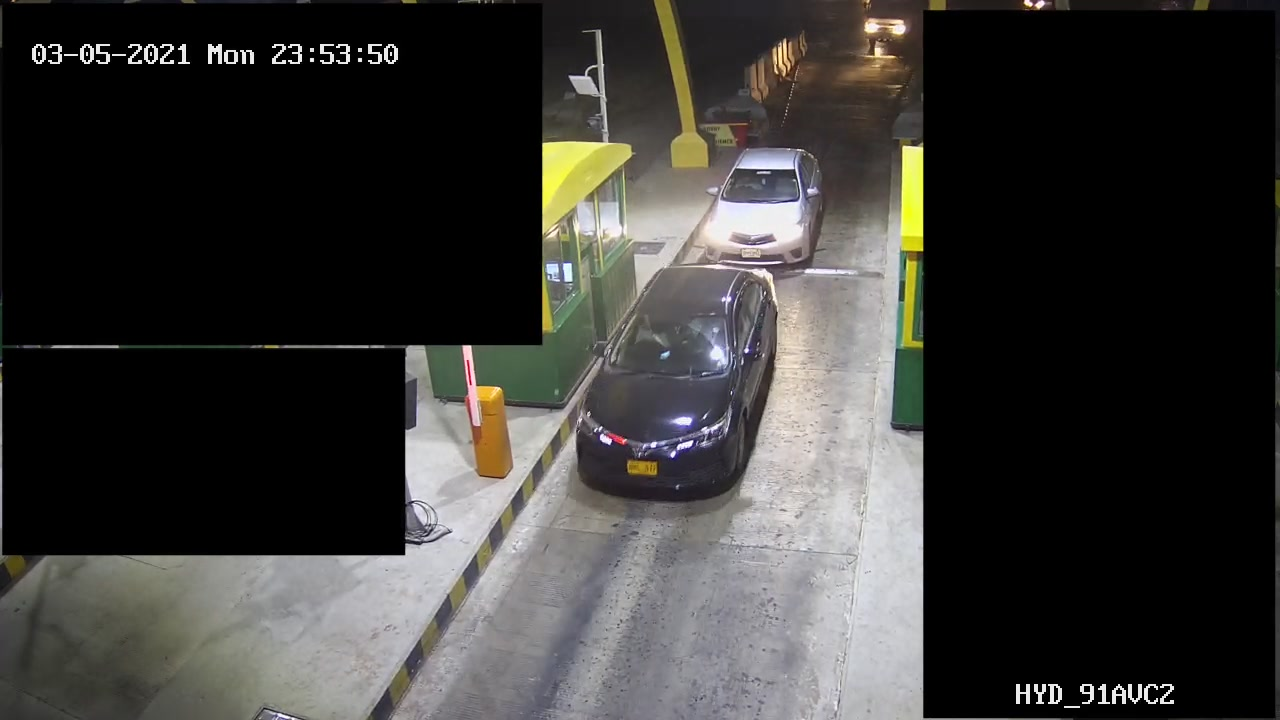F1: (565, 265, 795, 515), (702, 143, 829, 271)
